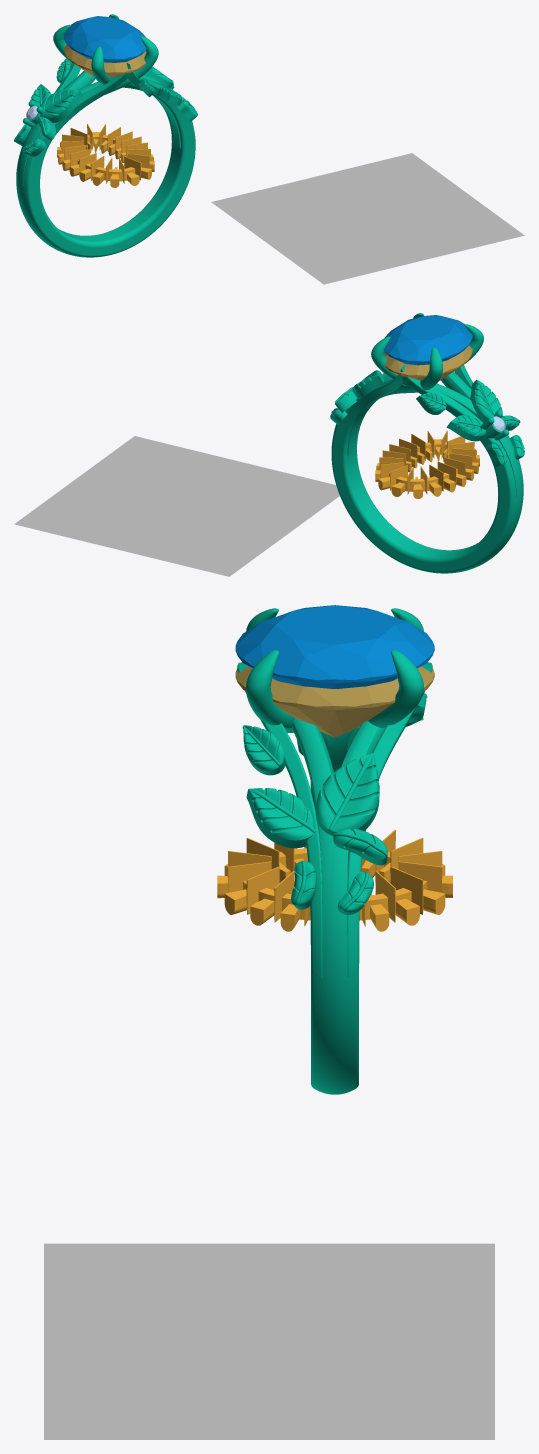
The picture shows the model from 3 angles, top to bottom: view 1: azimuth 30°, elevation 25°; view 2: azimuth 150°, elevation 25°; view 3: azimuth 270°, elevation 25°; orthographic projection. The views are drawn at different scales.
Parts seen in each view (by area): view 1: VR1051 006(front).3dm, Diamond_Oval (×2), Channel Cutter; view 2: VR1051 006(front).3dm, Diamond_Oval (×2), Channel Cutter; view 3: VR1051 006(front).3dm, Diamond_Oval (×2), Channel Cutter.
Part boxes in pixels (x1,y1,x2,y2): VR1051 006(front).3dm: (14,14,524,284); Diamond_Oval (×2): (64,16,146,77); Channel Cutter: (77,134,141,181); VR1051 006(front).3dm: (14,313,524,576); Diamond_Oval (×2): (384,315,472,380); Channel Cutter: (389,441,457,491); VR1051 006(front).3dm: (44,608,494,1439); Diamond_Oval (×2): (235,605,434,737); Channel Cutter: (243,848,427,920).
Size of the model in its own units: 5.97 by 3.14 by 2.69.
